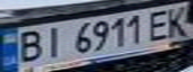1: (124, 11, 148, 45), (109, 16, 130, 48)
6: (69, 20, 93, 55)
9: (90, 18, 112, 53)
B: (9, 27, 48, 63)
E: (142, 7, 175, 43)
I: (36, 24, 69, 60)
K: (160, 3, 193, 37)
